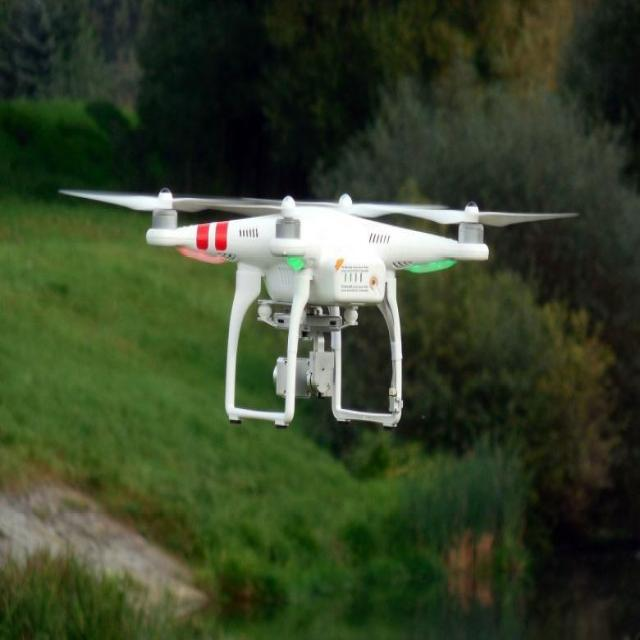drone: (143, 180, 491, 427)
